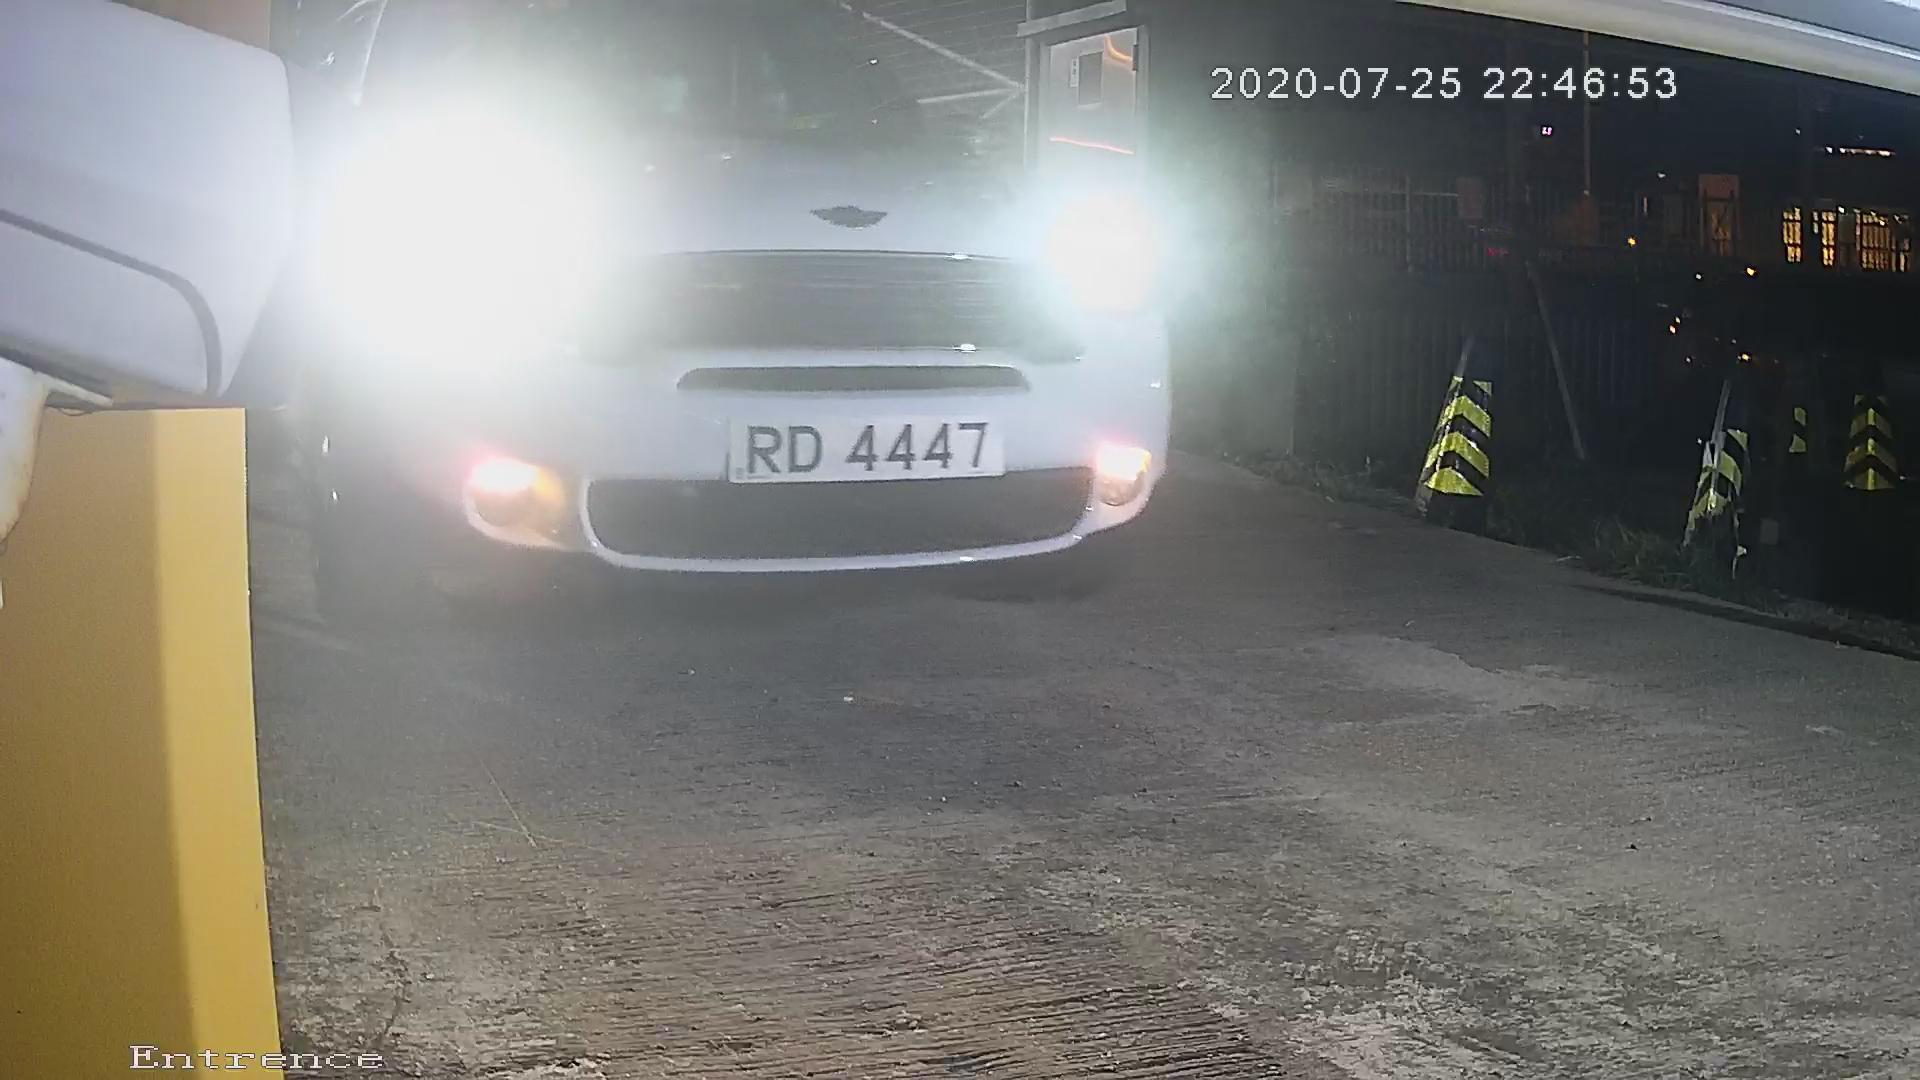privatecar: (249, 5, 1329, 642)
